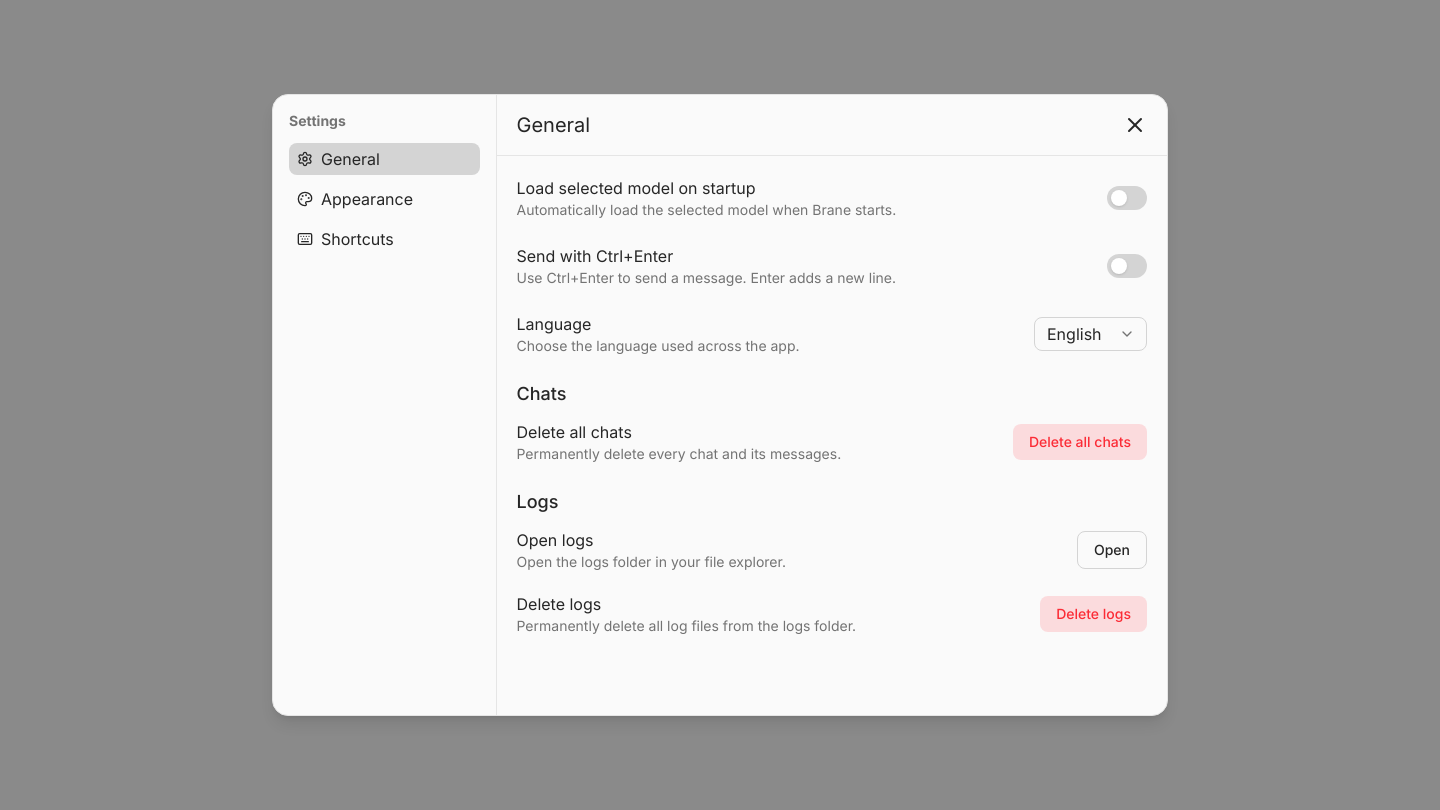
Test: SettingsModal › reports a pointer cursor preference that could not be saved
Click the tab "Appearance". click: [384, 199]
box: [289,183,480,215]
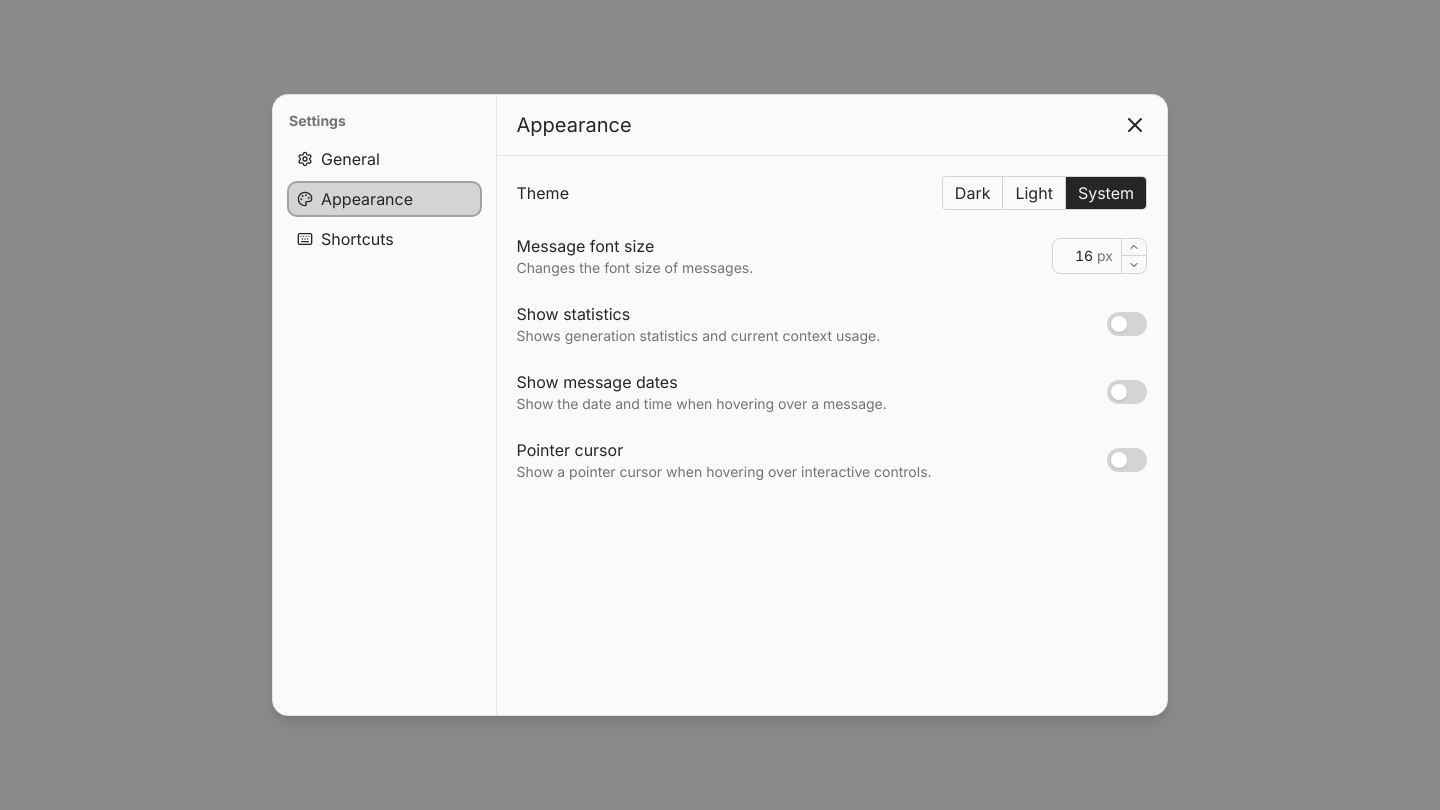
Click the 3rd switch named "Pointer cursor". click: [1127, 460]
box: [1107,448,1147,472]
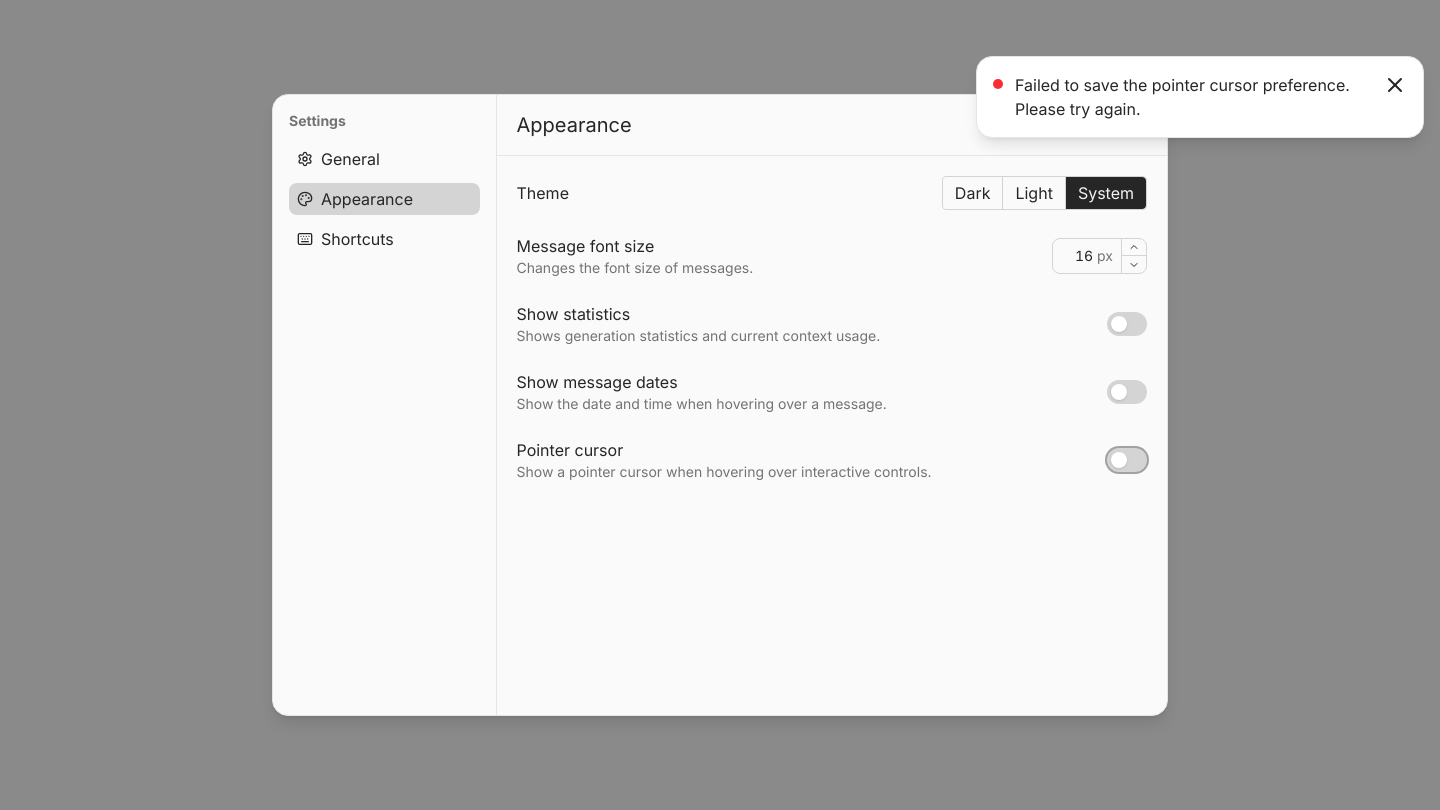
Check: the 3rd switch named "Pointer cursor" is not checked, box [1107,448,1147,472]
Check: the message reads "Failed to save the pointer cursor preference. Please try again.", box [1015,75,1354,119]
